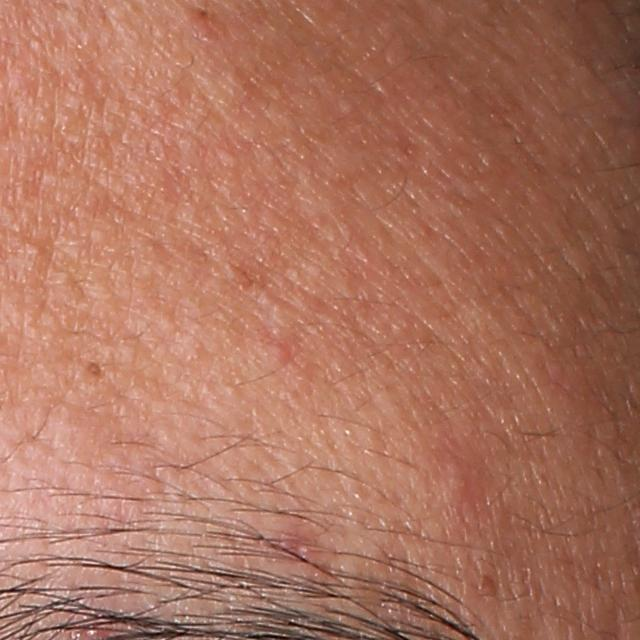comedo: (20, 241, 44, 258)
nevus: (84, 358, 103, 377)
papule: (433, 456, 476, 505), (268, 344, 296, 367)
